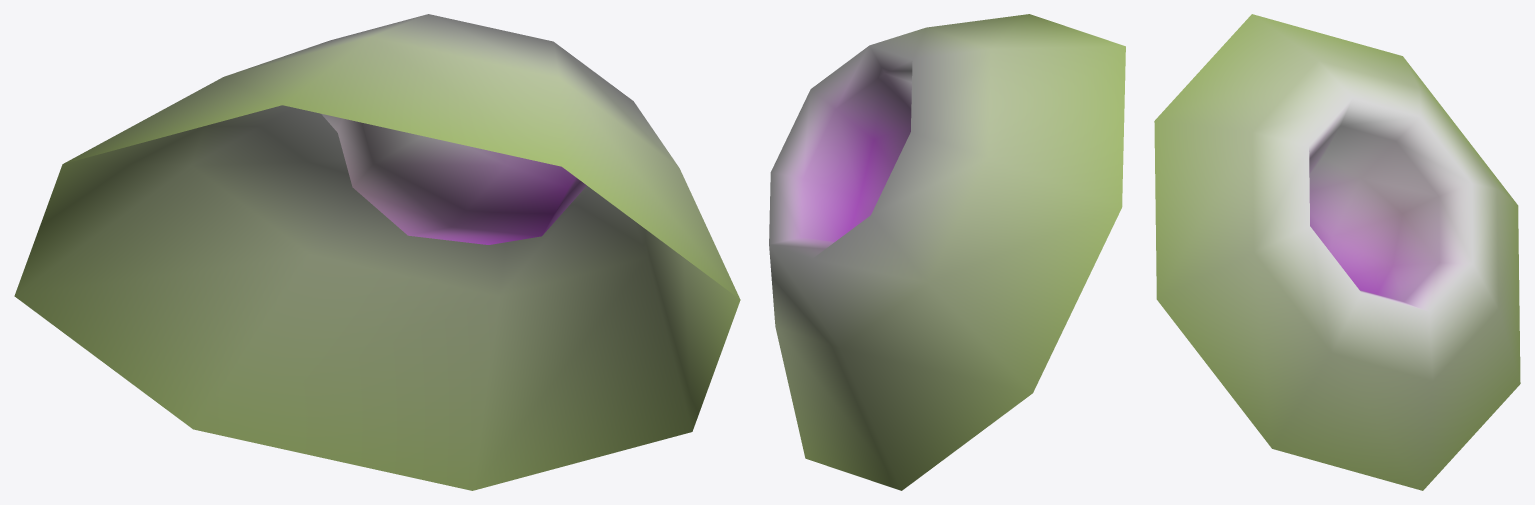
The model's file is Barnacle1.fbx.
3 views of the same model, side by side, from view 1: azimuth 30°, elevation 25°; view 2: azimuth 150°, elevation 25°; view 3: azimuth 270°, elevation 25° (orthographic). The views are drawn at different scales.
Parts seen in each view (by area): view 1: Barnacle1; view 2: Barnacle1; view 3: Barnacle1.
Boxes of the visible parts, x1,y1,x2,y2 form: Barnacle1: [14, 14, 740, 490]; Barnacle1: [769, 14, 1125, 490]; Barnacle1: [1154, 14, 1520, 490].
Size of the model in its own units: 153 by 152 by 136.
